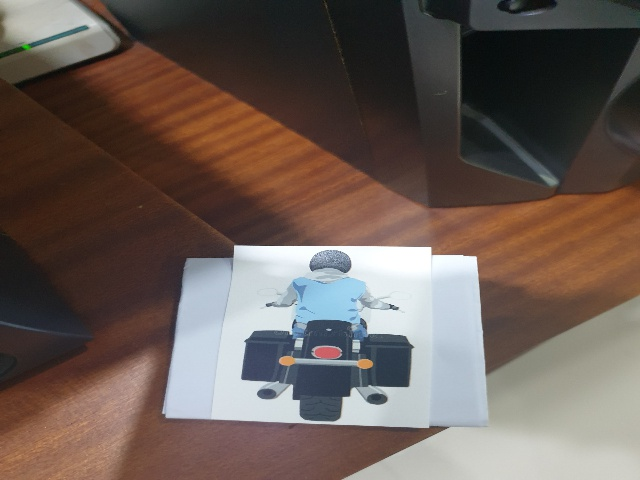Motorcycle: (241, 248, 416, 422)
